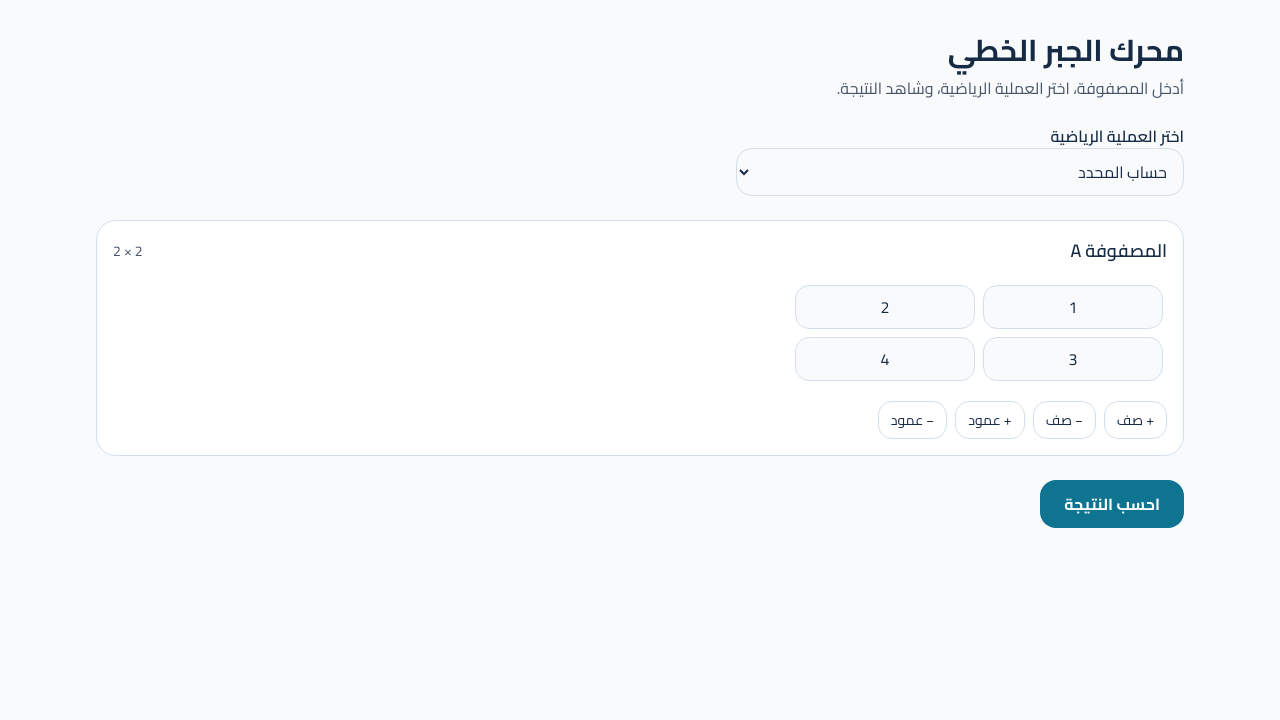
Test case: Linear Algebra Page Integration › handles invalid matrix input safely
Replace the text in the field named "صف 1, عمود 1" with "abc". click: (1073,307)
box: [983, 285, 1163, 329]
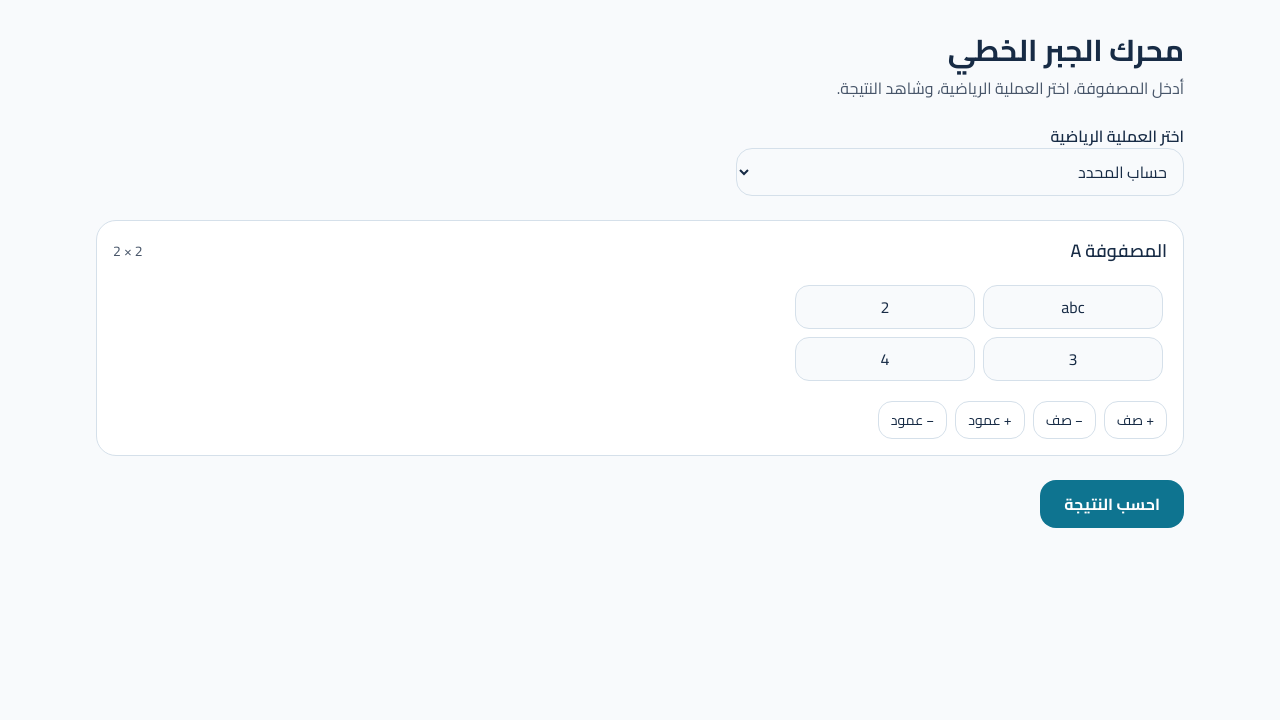
Click the button "احسب النتيجة". click: (1112,504)
box: [1040, 480, 1184, 528]
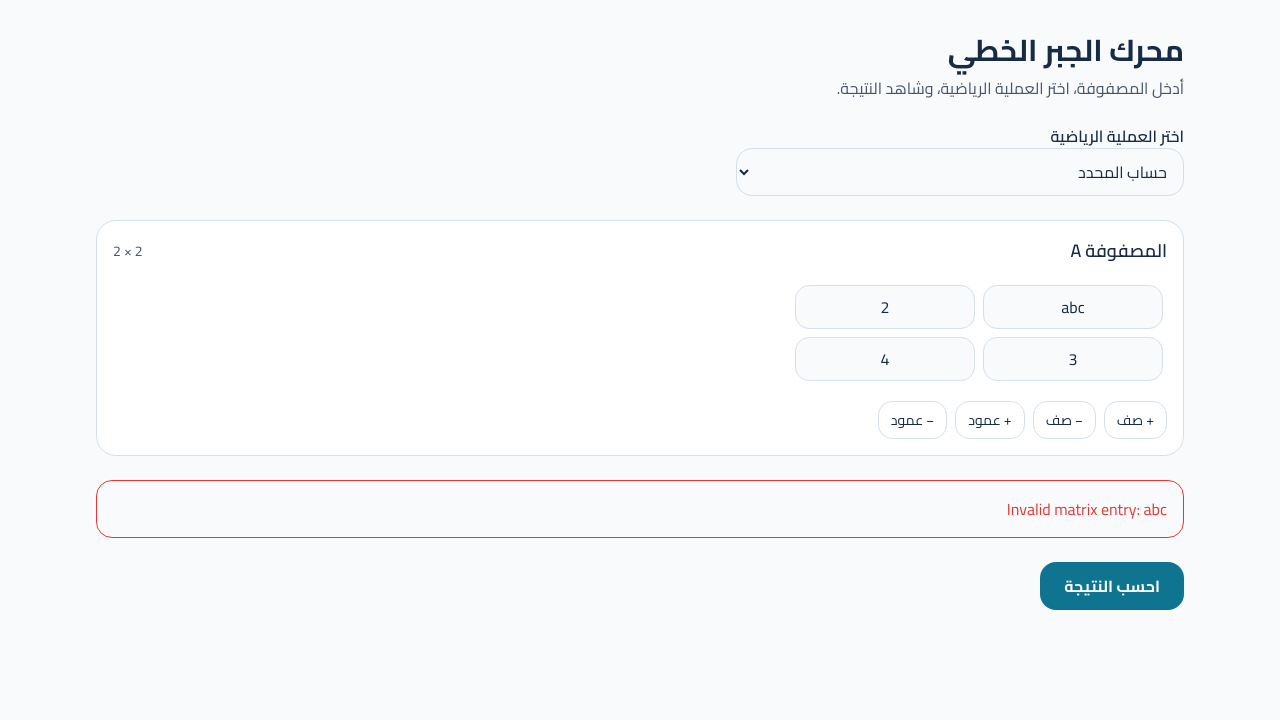
Expected: the message shows "Invalid matrix entry", [1007, 494, 1167, 524]
